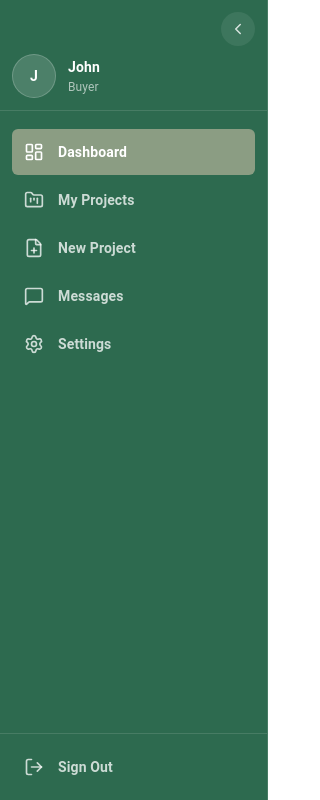
Test: Sidebar › collapses and expands desktop nav item labels
Check: the text "Dashboard" is shown, box [58,144,127,160]
Click the button named "collapse sidebar" at (238, 29), box [221,12,255,46]
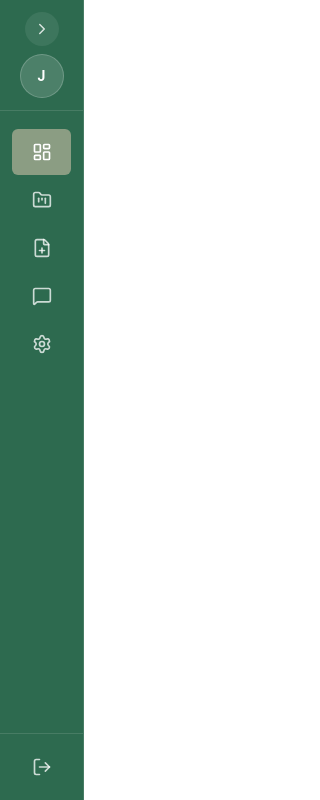
Check: the text "Dashboard" is gone
Check: the button named "expand sidebar" is shown
Click the button named "expand sidebar" at (42, 29), box [24,12,58,46]
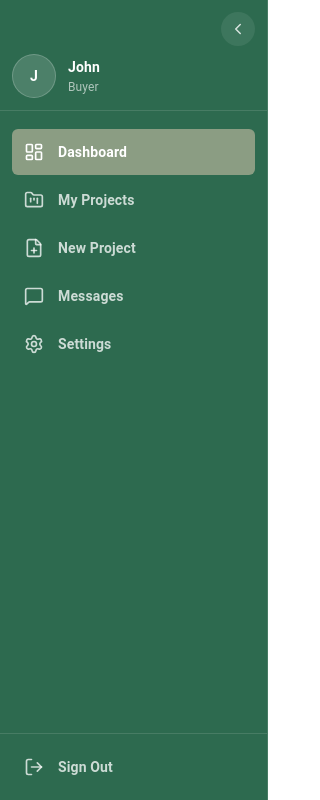
Check: the text "Dashboard" is shown, box [58,144,127,160]
